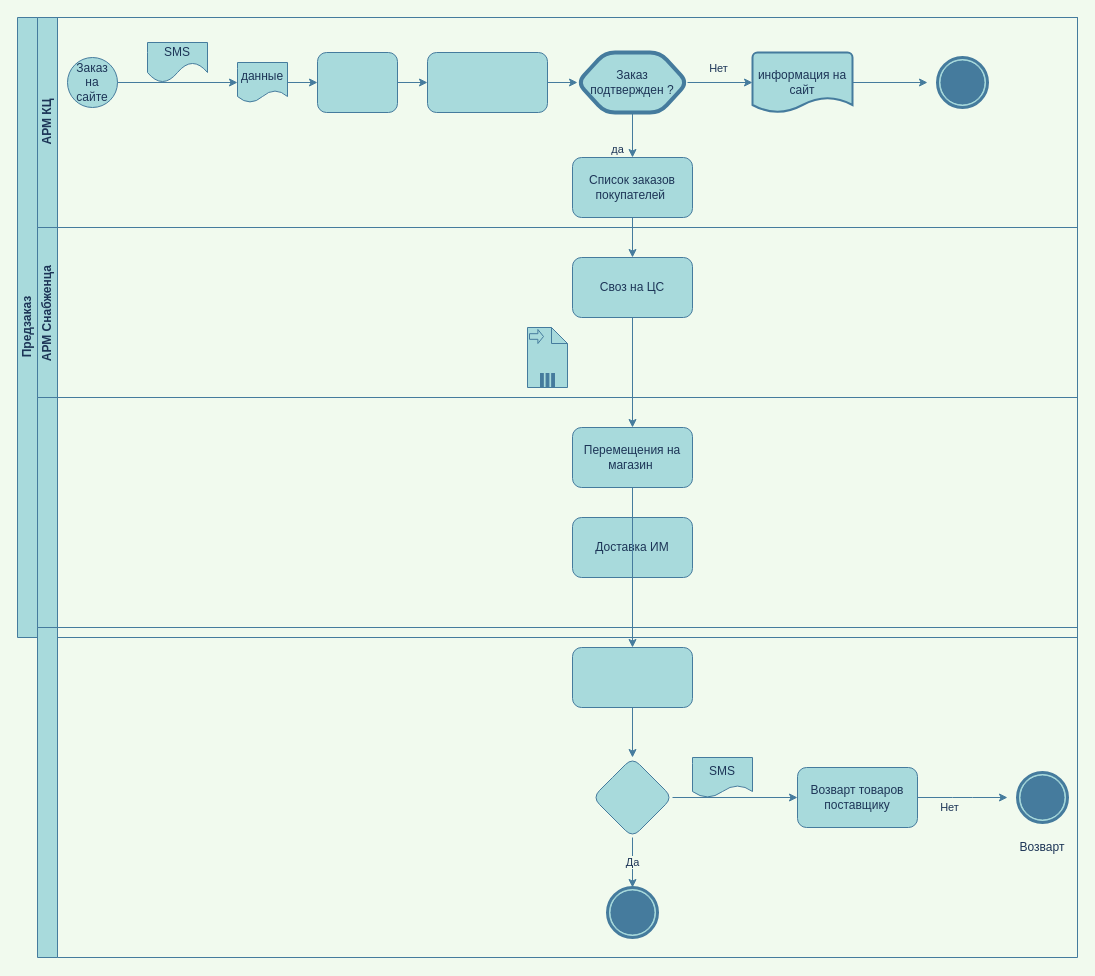
This 1095x976 diagram has some shape labels left out. Here are the shapes that lost their labels. From the top down, the box of each, then its label:
(316, 52, 398, 112): Заказ ИМ
(426, 52, 548, 112): Форма работы с поекупателем
(526, 326, 568, 388): Дата старта продаж
(36, 396, 1078, 638): АРМ ТСД
(572, 646, 692, 708): Поступление товара
(36, 626, 1078, 958): АРМ Продавца
(592, 756, 672, 838): Товар продан
